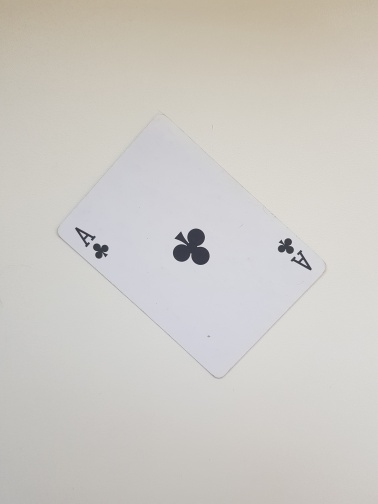ace: (54, 109, 328, 382)
